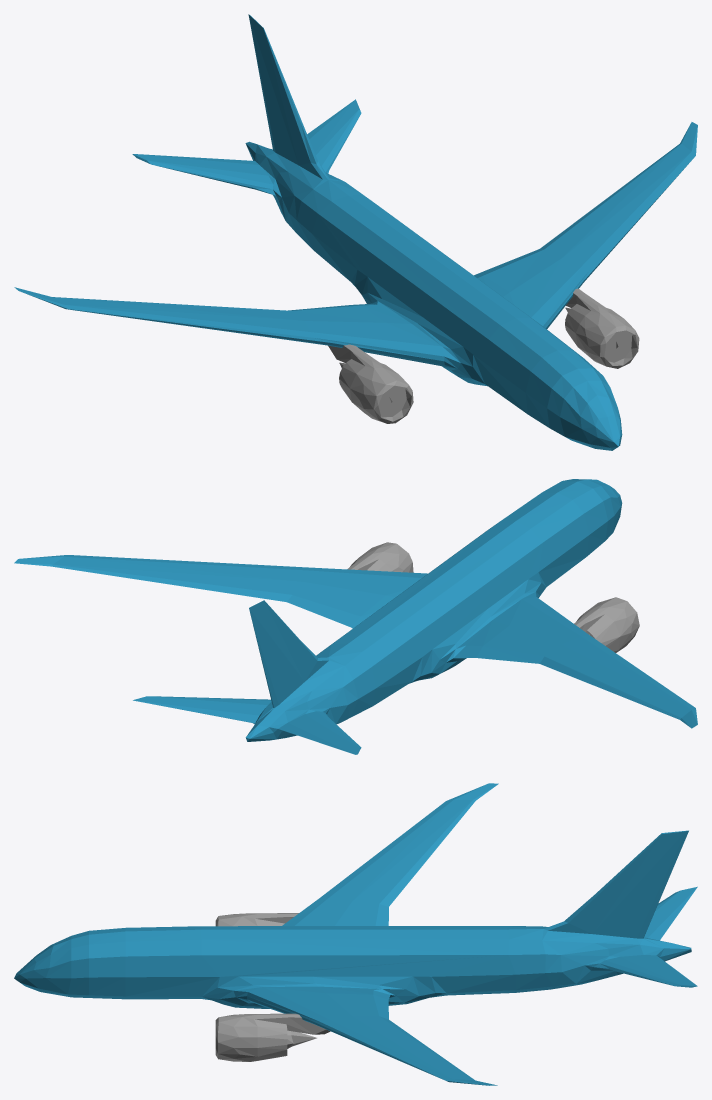
File: jet_scaled.obj
3 renders of one model, top to bottom at view 1: azimuth 30°, elevation 25°; view 2: azimuth 150°, elevation 25°; view 3: azimuth 270°, elevation 25°, orthographic. The views are drawn at different scales.
Visible parts, largest first — view 1: Boeing_787_8.obj.2; view 2: Boeing_787_8.obj.2; view 3: Boeing_787_8.obj.2.
Part boxes in pixels (<box>): Boeing_787_8.obj.2: <box>14,14,697,450</box>; Boeing_787_8.obj.2: <box>14,479,697,754</box>; Boeing_787_8.obj.2: <box>14,783,697,1085</box>.
Size of the model in its own units: 5.62 by 1.55 by 5.37.
